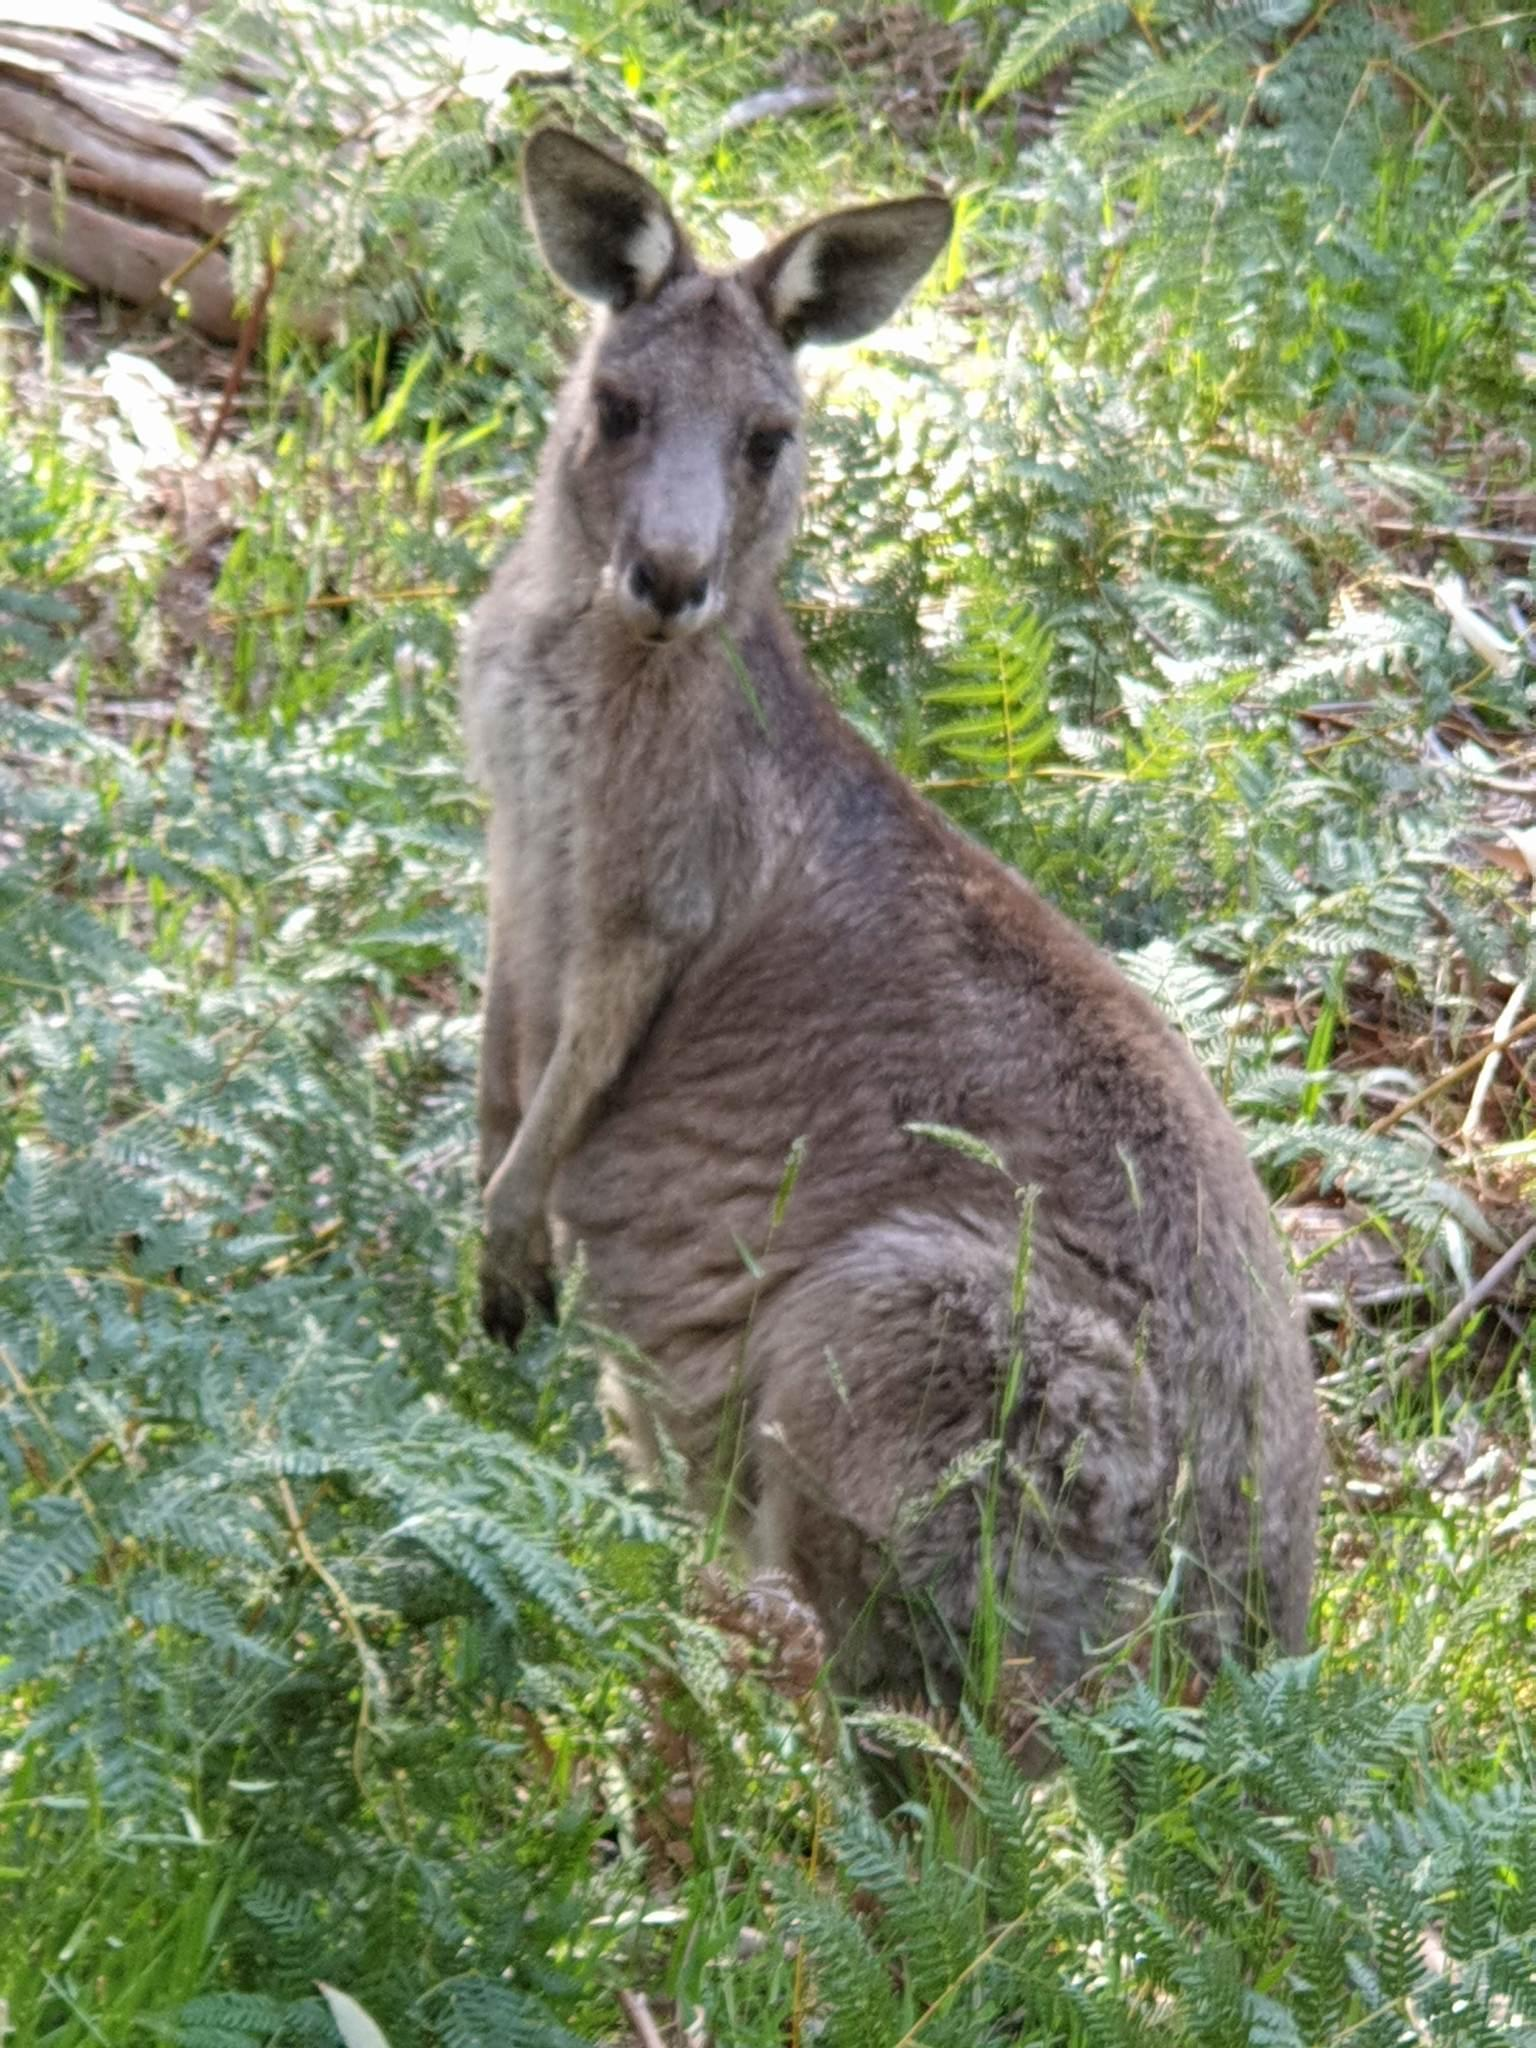Eastern grey kangaroo: (470, 123, 1323, 1863)
